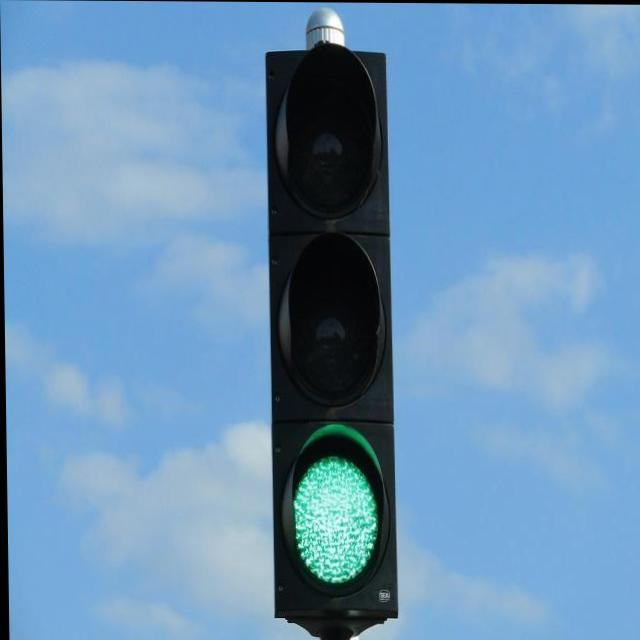green light: (268, 57, 396, 609)
